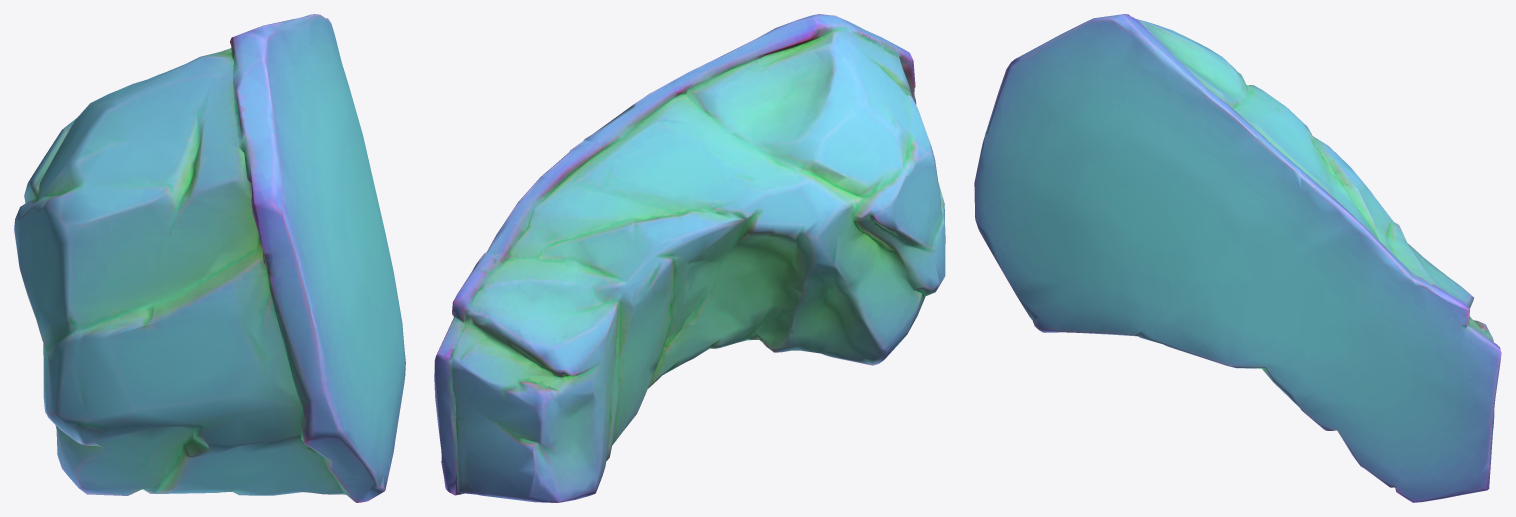
The model's file is zero_point_fragment_-_fortnite_remix_the_finale.glb.
3 renders of one model, left to right at view 1: azimuth 30°, elevation 25°; view 2: azimuth 150°, elevation 25°; view 3: azimuth 270°, elevation 25°, orthographic. The views are drawn at different scales.
Visible parts, largest first — view 1: SM_Quail_Fragment; view 2: SM_Quail_Fragment; view 3: SM_Quail_Fragment.
Part boxes in pixels (x1,y1,x2,y2): SM_Quail_Fragment: (14, 14, 405, 502); SM_Quail_Fragment: (434, 14, 945, 502); SM_Quail_Fragment: (974, 14, 1501, 502).
Bounding box in the file's own units: 3.22 × 3.78 × 4.52.
Materials: 2 (2 with a texture image).
